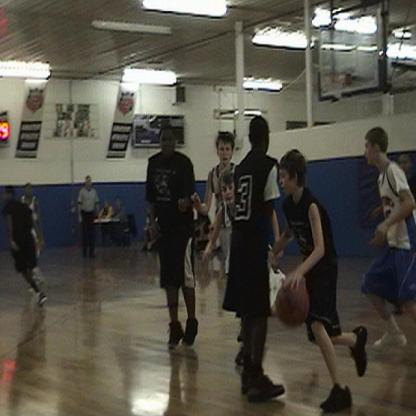basketball: (274, 280, 310, 327)
rim: (323, 72, 347, 85)
